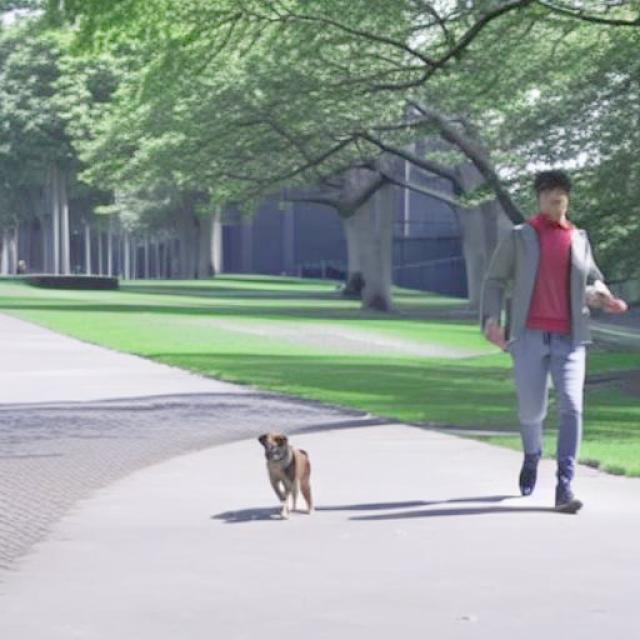Unleashed_Dog: (257, 344, 587, 520)
